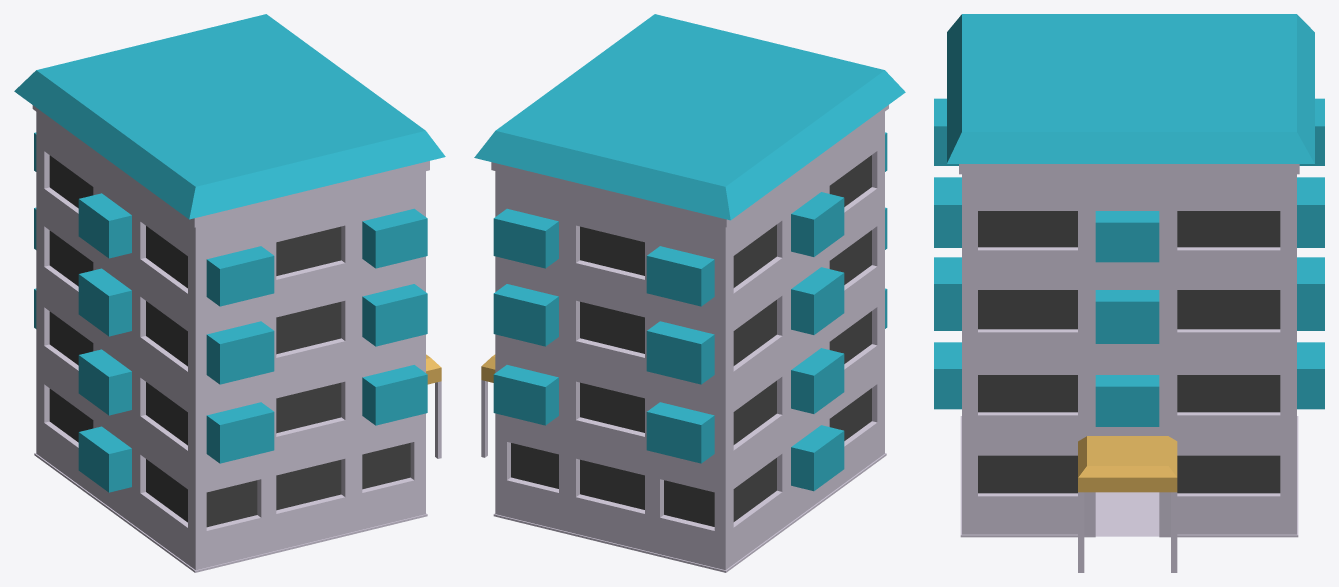
File: big_hotel.fbx
The picture shows the model from 3 angles, left to right: view 1: azimuth 30°, elevation 25°; view 2: azimuth 150°, elevation 25°; view 3: azimuth 270°, elevation 25°; orthographic projection. The views are drawn at different scales.
Parts seen in each view (by area): view 1: main_cube_hotelBig; view 2: main_cube_hotelBig; view 3: main_cube_hotelBig.
Part boxes in pixels (x1,y1,x2,y2): main_cube_hotelBig: (14, 14, 445, 572); main_cube_hotelBig: (474, 14, 905, 572); main_cube_hotelBig: (934, 14, 1324, 572).
Bounding box in the file's own units: 14.08 × 16 × 14.
